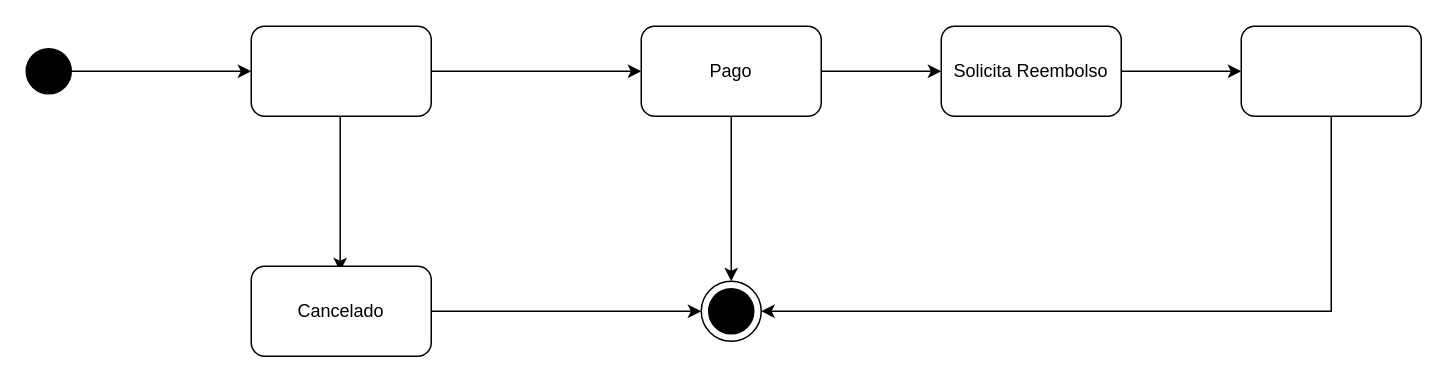
Some shapes in this 1448 by 383 pixel diagram are drawn without their labels. The centre of each missing label's shape, as x and y in pixels:
"Aguardando Pagamento" goes at pixel 340 70.
"Reembolsado" goes at pixel 1330 70.
